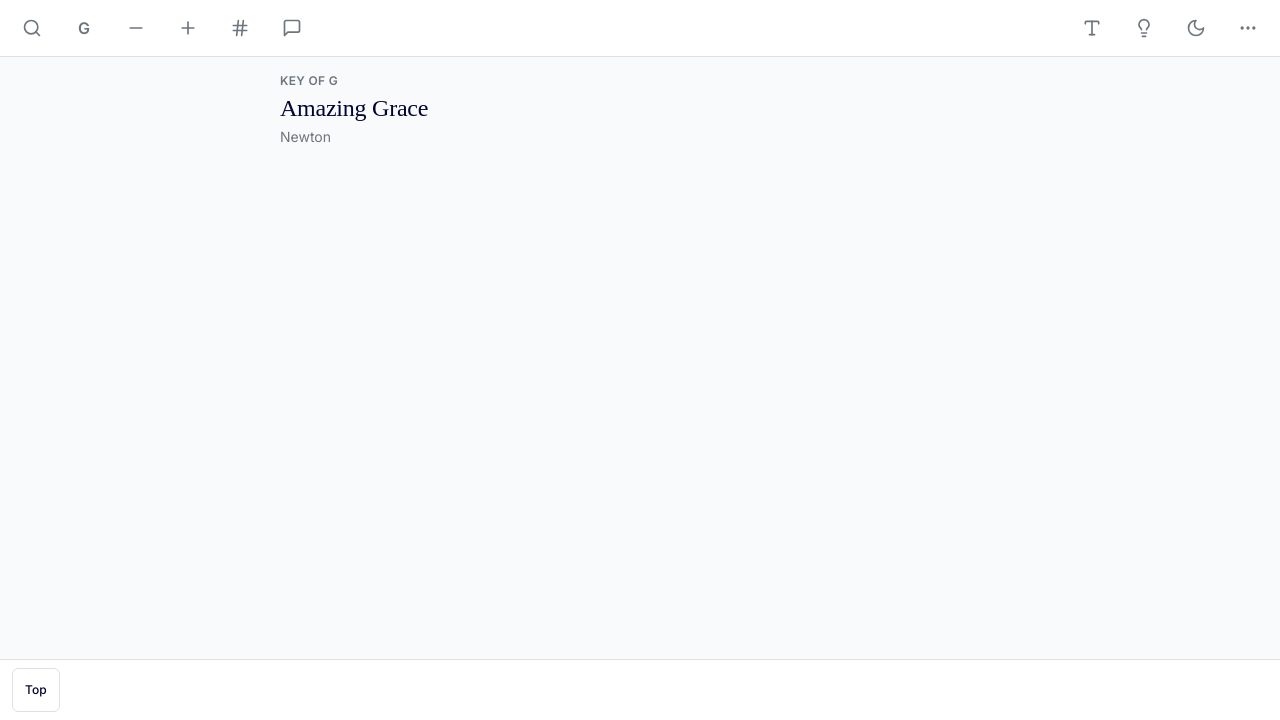
it: Role-gated UI › SongChartPage › observer still sees Print and download actions in the More menu
Expected: the heading "Amazing Grace" is shown, x1=280 y1=95 x2=428 y2=121
Click the button named "more actions" at (1248, 28), box x1=1224 y1=4 x2=1272 y2=52
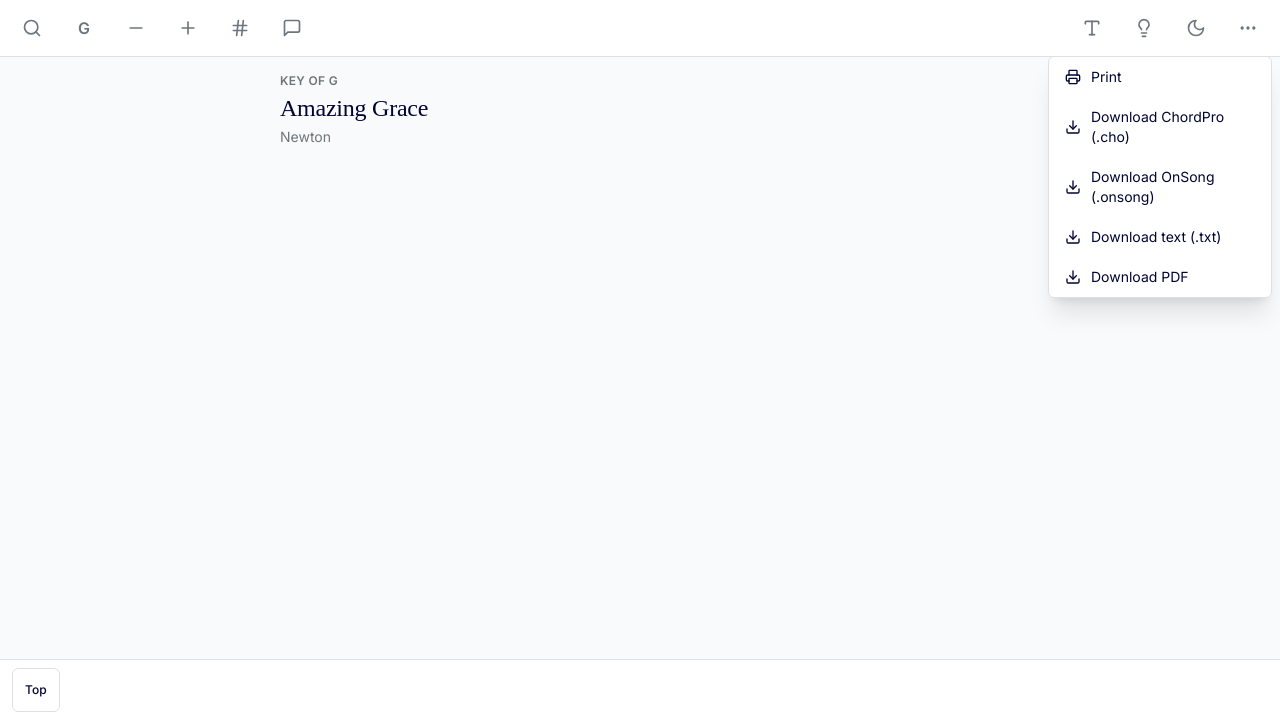
Now the menu item "Print" is shown, box x1=1049 y1=57 x2=1271 y2=97
Now the menu item "Download ChordPro (.cho)" is shown, box x1=1049 y1=97 x2=1271 y2=157
